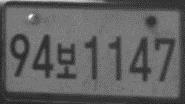1: (107, 34, 123, 83), (83, 35, 99, 81)
4: (128, 36, 153, 82), (31, 33, 54, 81)
7: (153, 36, 176, 83)
9: (8, 33, 30, 78)
보: (55, 41, 78, 80)
